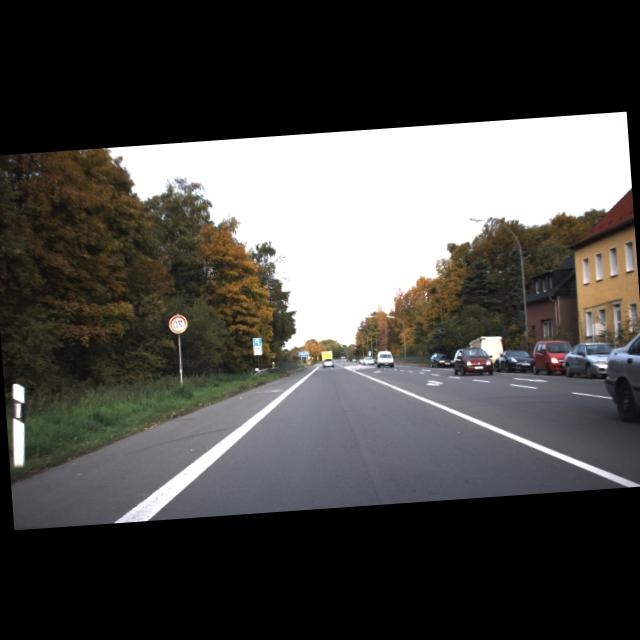prohibitory: (168, 314, 188, 332)
